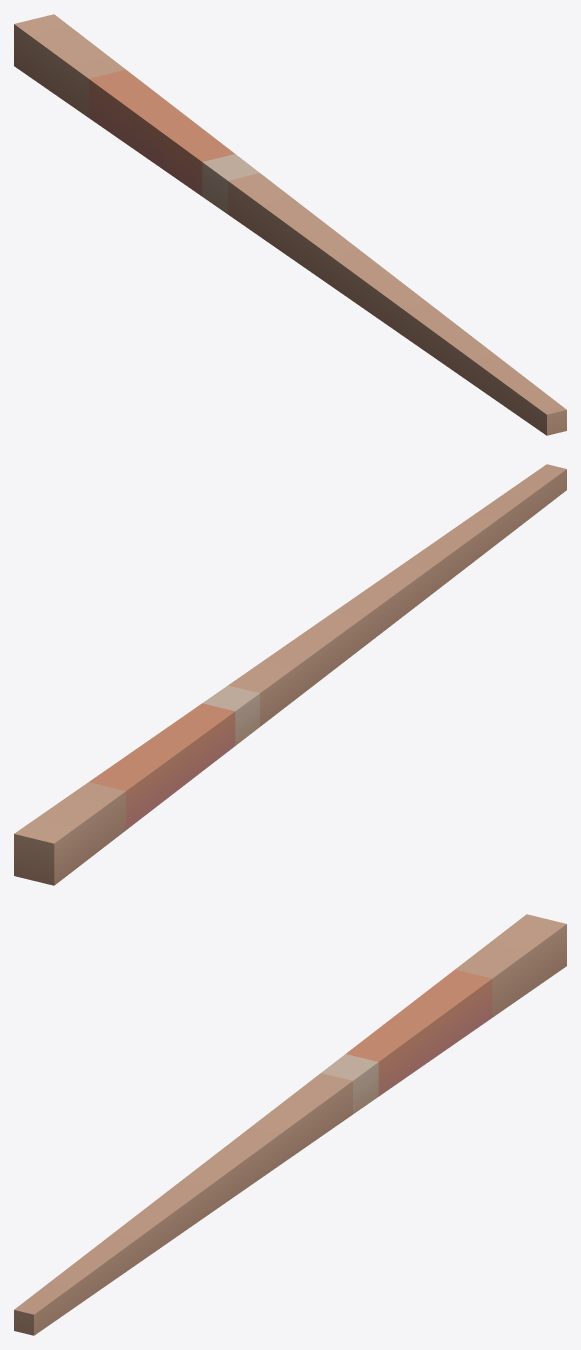
The model's file is chopstic-decorative.glb.
The picture shows the model from 3 angles, top to bottom: view 1: azimuth 30°, elevation 25°; view 2: azimuth 150°, elevation 25°; view 3: azimuth 330°, elevation 25°; orthographic projection.
Visible parts, largest first — view 1: chopstic-decorative; view 2: chopstic-decorative; view 3: chopstic-decorative.
Part boxes in pixels (box(x1,y1,x2,y2)): chopstic-decorative: box(14, 14, 566, 435); chopstic-decorative: box(14, 464, 566, 885); chopstic-decorative: box(14, 914, 566, 1335).
Size of the model in its own units: 0.02 by 0.02 by 0.45.
